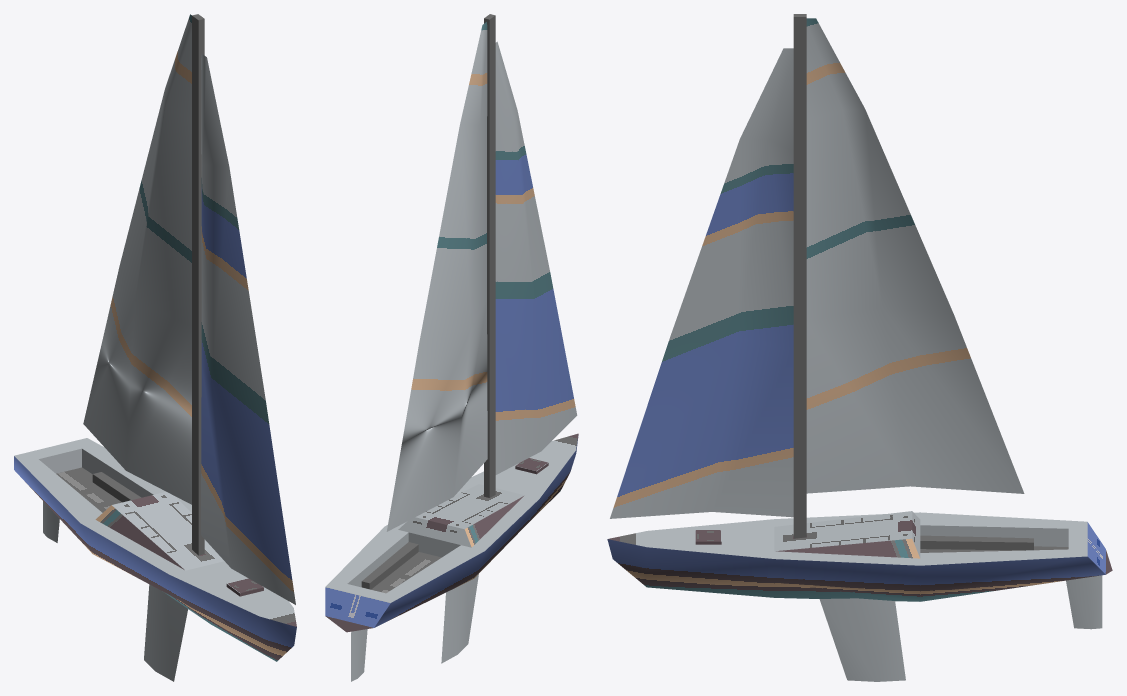
The model's file is 01b1_Sailboat.glb.
The picture shows the model from 3 angles, left to right: view 1: azimuth 30°, elevation 25°; view 2: azimuth 150°, elevation 25°; view 3: azimuth 270°, elevation 25°; orthographic projection. The views are drawn at different scales.
Visible parts, largest first — view 1: part_0; view 2: part_0; view 3: part_0.
Part boxes in pixels (box(x1,y1,x2,y2)): part_0: box(14, 14, 296, 681); part_0: box(325, 14, 578, 681); part_0: box(607, 14, 1112, 681).
Bounding box in the file's own units: 2.78 × 16.17 × 11.14.
1 material, 1 textured.
